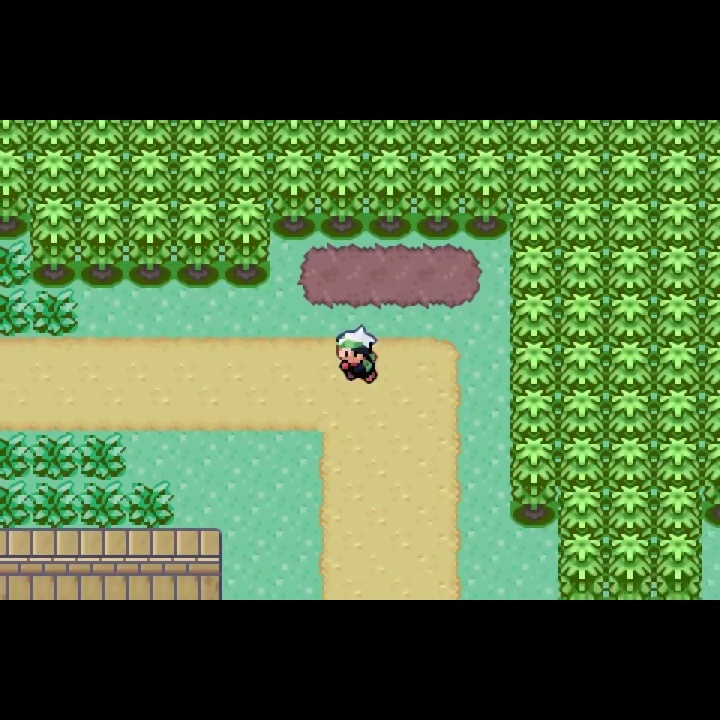grass: (77, 430, 127, 483), (31, 285, 80, 337), (127, 479, 176, 530), (29, 430, 77, 481), (30, 481, 78, 530), (79, 481, 127, 530), (1, 238, 31, 289), (1, 431, 31, 480), (1, 480, 30, 529), (1, 287, 29, 336)
npc: (333, 322, 383, 389)
wall: (125, 195, 175, 291), (318, 148, 367, 242), (271, 147, 319, 242), (222, 196, 271, 289), (366, 148, 415, 241), (175, 195, 222, 291), (79, 196, 125, 291), (30, 197, 78, 288), (462, 148, 510, 239), (510, 437, 557, 529), (415, 148, 462, 240), (606, 531, 654, 600), (654, 530, 701, 599), (558, 532, 606, 599), (654, 337, 703, 390), (606, 241, 655, 294), (509, 340, 559, 391), (605, 338, 654, 390), (510, 244, 560, 294), (606, 148, 656, 198), (221, 146, 270, 197), (606, 292, 655, 343), (654, 241, 703, 292), (1, 148, 29, 237), (654, 436, 702, 487), (559, 435, 607, 486), (654, 389, 703, 438), (558, 340, 606, 390), (558, 292, 606, 342), (510, 148, 559, 196), (606, 436, 654, 485), (558, 388, 607, 436), (606, 388, 654, 437), (654, 149, 702, 198), (509, 293, 559, 340), (560, 148, 607, 198), (127, 148, 175, 196), (558, 485, 606, 533), (654, 291, 702, 339), (558, 195, 606, 243), (605, 484, 654, 531), (653, 484, 702, 531), (559, 243, 606, 292), (78, 148, 125, 196), (176, 147, 222, 196), (511, 390, 558, 437), (31, 149, 77, 197), (606, 196, 654, 242), (654, 196, 702, 242), (511, 197, 558, 242), (701, 436, 720, 529), (655, 119, 702, 151), (318, 120, 368, 149), (78, 119, 126, 149), (414, 119, 462, 149), (509, 120, 558, 149), (558, 120, 606, 149), (606, 120, 654, 149), (31, 119, 77, 149), (462, 120, 509, 149), (127, 120, 175, 148), (366, 120, 414, 148), (175, 120, 223, 146), (221, 120, 270, 145), (270, 121, 318, 146), (701, 292, 720, 345), (701, 244, 720, 294), (702, 152, 720, 202), (703, 197, 720, 248), (703, 342, 720, 391), (1, 118, 30, 146), (703, 390, 720, 437)
